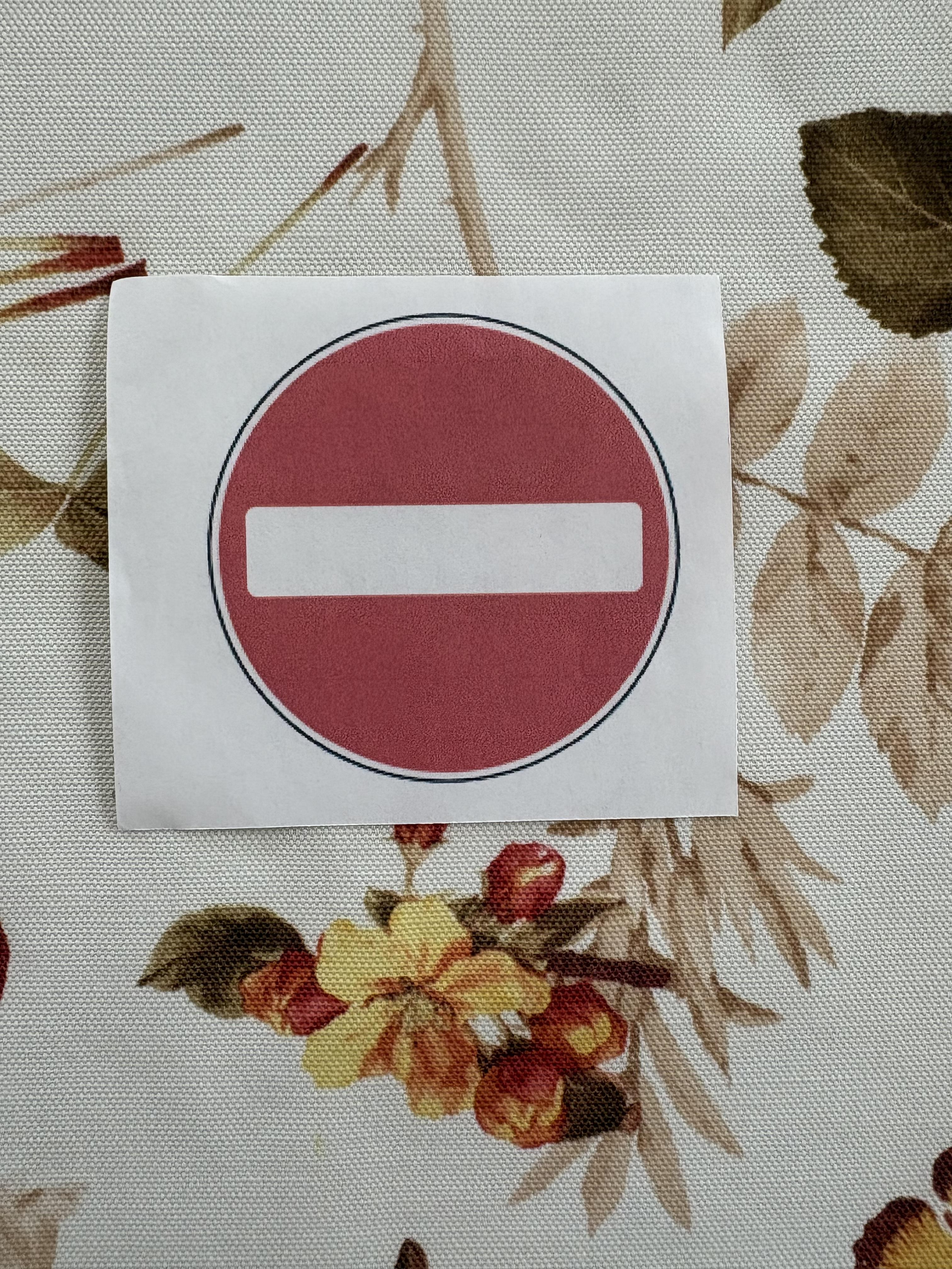No Entry: (110, 286, 730, 826)
